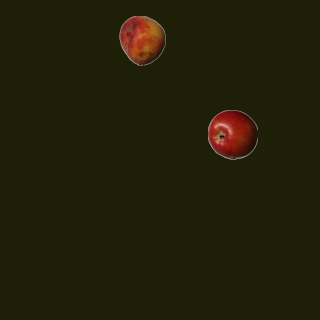Apple Braeburn: (207, 109, 257, 159)
Peach: (117, 15, 167, 65)
